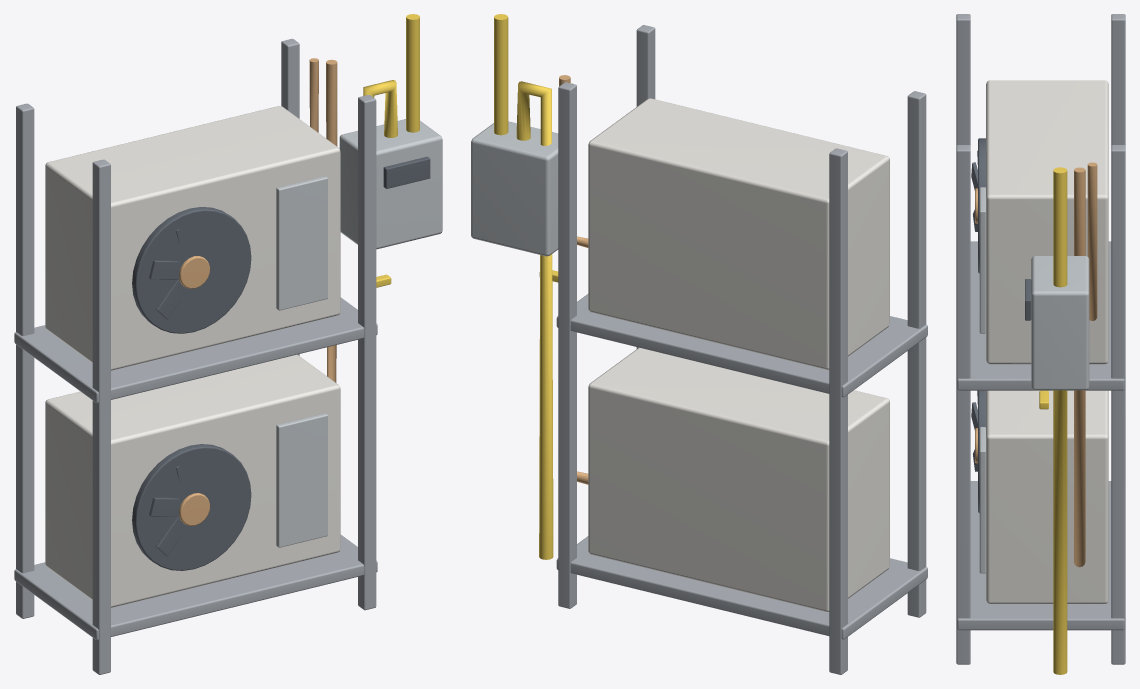
The model's file is alley_ac_meter_pipe_wall_v10.glb.
3 views of the same model, side by side, from view 1: azimuth 30°, elevation 25°; view 2: azimuth 150°, elevation 25°; view 3: azimuth 270°, elevation 25° (orthographic). The views are drawn at different scales.
Parts seen in each view (by area): view 1: V10_AcUnitCabinet2, V10_AcUnitCabinet1, V10_RackShelfFrame, V10_RackShelfFrame.001, V10_AcFanShroud1, V10_AcFanShroud2, V10_RackAnglePost.002, V10_RackAnglePost, V10_RackAnglePost.001, V10_GasMeterBody, V10_AcControlPanel2, V10_AcControlPanel1 (+8 smaller); view 2: V10_AcUnitCabinet2, V10_AcUnitCabinet1, V10_GasMeterBody, V10_RackAnglePost, V10_RackAnglePost.001, V10_RackAnglePost.003, V10_RackShelfFrame.001, V10_RackShelfFrame, V10_GasSupplyPipe, V10_GasOutletPipe, V10_RackAnglePost.002; view 3: V10_AcUnitCabinet2, V10_AcUnitCabinet1, V10_GasMeterBody, V10_RackAnglePost.002, V10_RackAnglePost.003, V10_RackShelfFrame, V10_RackShelfFrame.001, V10_GasSupplyPipe, V10_CopperCoolantLineA, V10_RackAnglePost, V10_RackAnglePost.001, V10_GasOutletPipe (+6 smaller).
Boxes of the visible parts, x1,y1,x2,y2 form: V10_AcUnitCabinet2: (45, 106, 340, 370); V10_AcUnitCabinet1: (45, 354, 340, 607); V10_RackShelfFrame: (14, 534, 377, 640); V10_RackShelfFrame.001: (14, 297, 377, 403); V10_AcFanShroud1: (132, 444, 251, 570); V10_AcFanShroud2: (132, 207, 251, 333); V10_RackAnglePost.002: (358, 95, 376, 610); V10_RackAnglePost: (92, 159, 110, 674); V10_RackAnglePost.001: (16, 103, 34, 618); V10_GasMeterBody: (339, 119, 442, 249); V10_AcControlPanel2: (276, 176, 327, 310); V10_AcControlPanel1: (276, 413, 327, 547); V10_AcUnitCabinet2: (588, 98, 889, 369); V10_AcUnitCabinet1: (588, 347, 889, 612); V10_GasMeterBody: (471, 121, 558, 256); V10_RackAnglePost: (907, 91, 926, 617); V10_RackAnglePost.001: (829, 148, 847, 674); V10_RackAnglePost.003: (558, 82, 576, 608); V10_RackShelfFrame.001: (556, 294, 927, 397); V10_RackShelfFrame: (556, 536, 927, 639); V10_GasSupplyPipe: (516, 81, 553, 559); V10_GasOutletPipe: (494, 14, 508, 135); V10_RackAnglePost.002: (636, 25, 655, 348); V10_AcUnitCabinet2: (986, 80, 1108, 364); V10_AcUnitCabinet1: (986, 390, 1108, 603); V10_GasMeterBody: (1031, 256, 1089, 390); V10_RackAnglePost.002: (956, 145, 970, 664); V10_RackAnglePost.003: (1111, 145, 1125, 664); V10_RackShelfFrame: (957, 481, 1124, 630); V10_RackShelfFrame.001: (957, 241, 1124, 390); V10_GasSupplyPipe: (1053, 390, 1067, 674); V10_CopperCoolantLineA: (1074, 167, 1085, 567); V10_RackAnglePost: (956, 14, 970, 145); V10_RackAnglePost.001: (1111, 14, 1125, 145); V10_GasOutletPipe: (1053, 167, 1067, 287).
Bounding box in the file's own units: 1.39 × 1.84 × 0.525.
